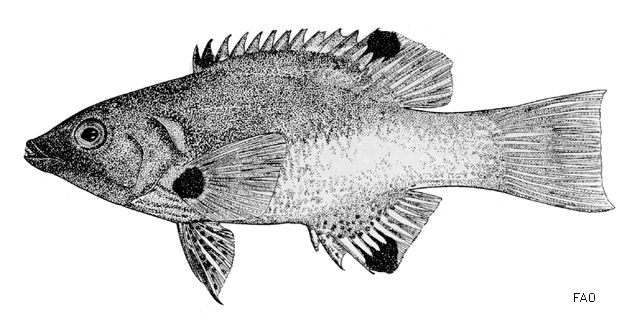fish: (24, 28, 615, 306)
